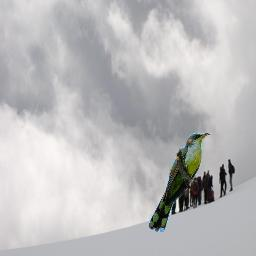Cuckoo: (149, 133, 210, 232)
